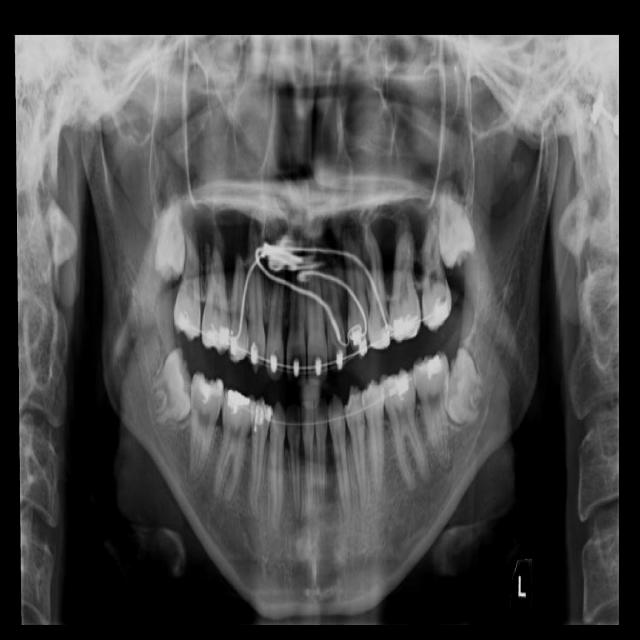Filling: (223, 390, 255, 441), (191, 371, 223, 414), (415, 355, 447, 380)
impacted tooth: (444, 347, 484, 424), (151, 349, 189, 422), (439, 194, 477, 267), (156, 201, 186, 284)
